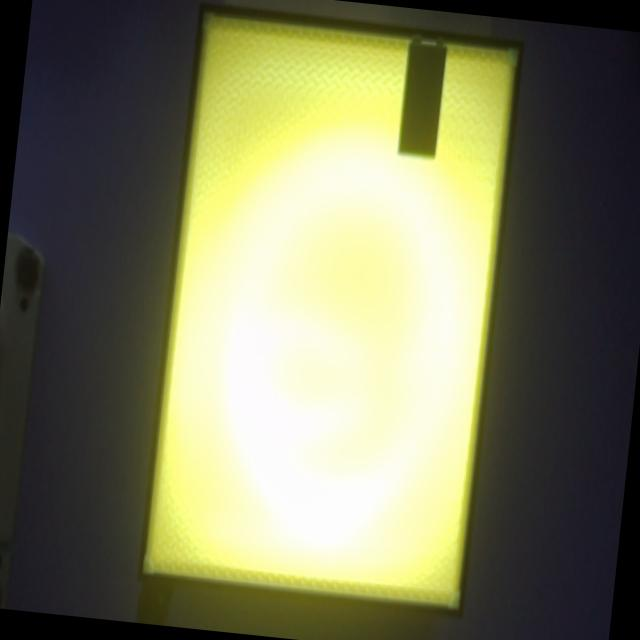bateria: (397, 35, 447, 157)
mesa: (137, 3, 525, 617)
